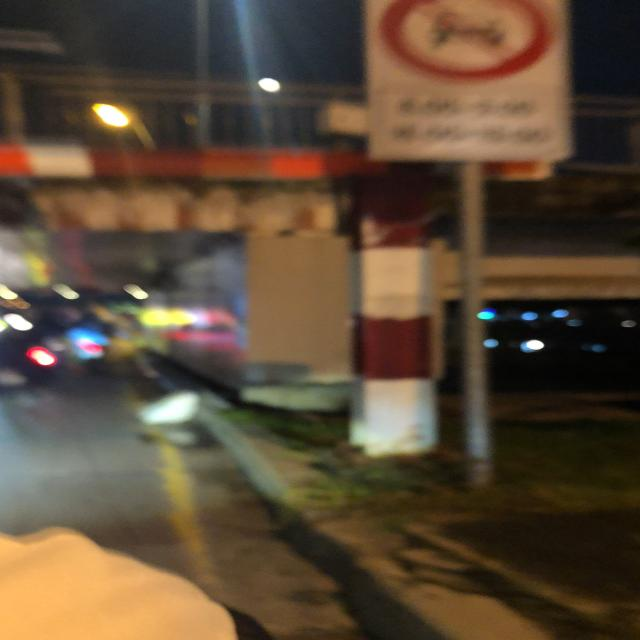Bien bao cam xe oto: (376, 0, 577, 80)
